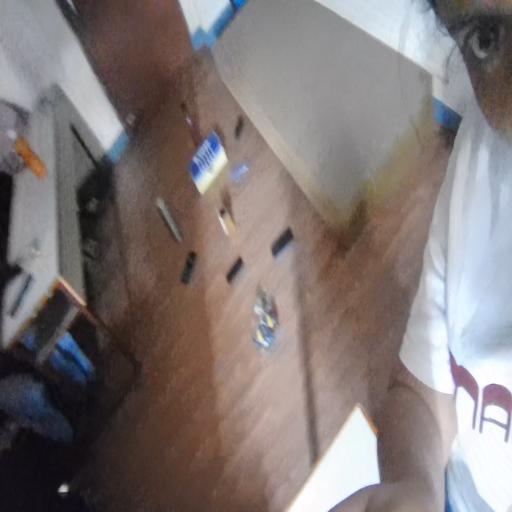Bottle: (177, 104, 199, 142)
car: (247, 293, 290, 362)
